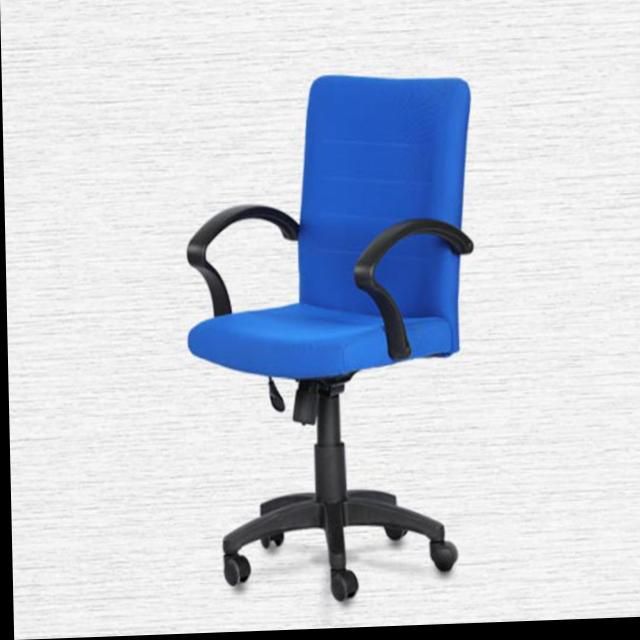Chair: (180, 71, 480, 611)
